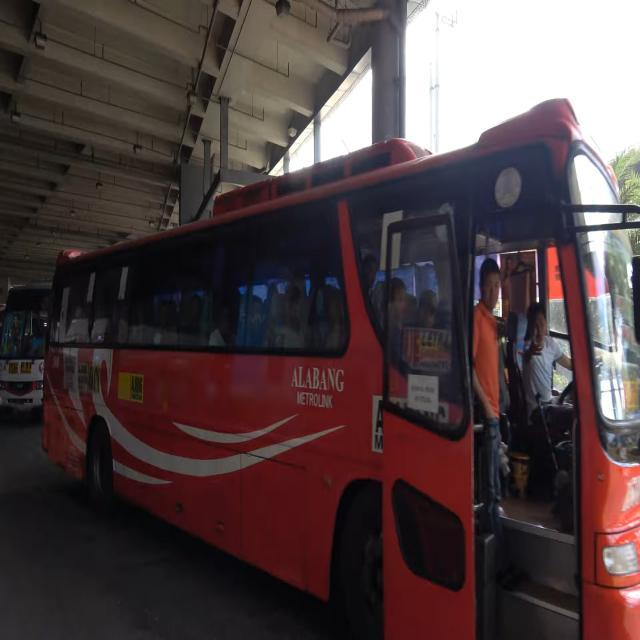bus: (41, 92, 640, 640), (0, 281, 57, 415)
